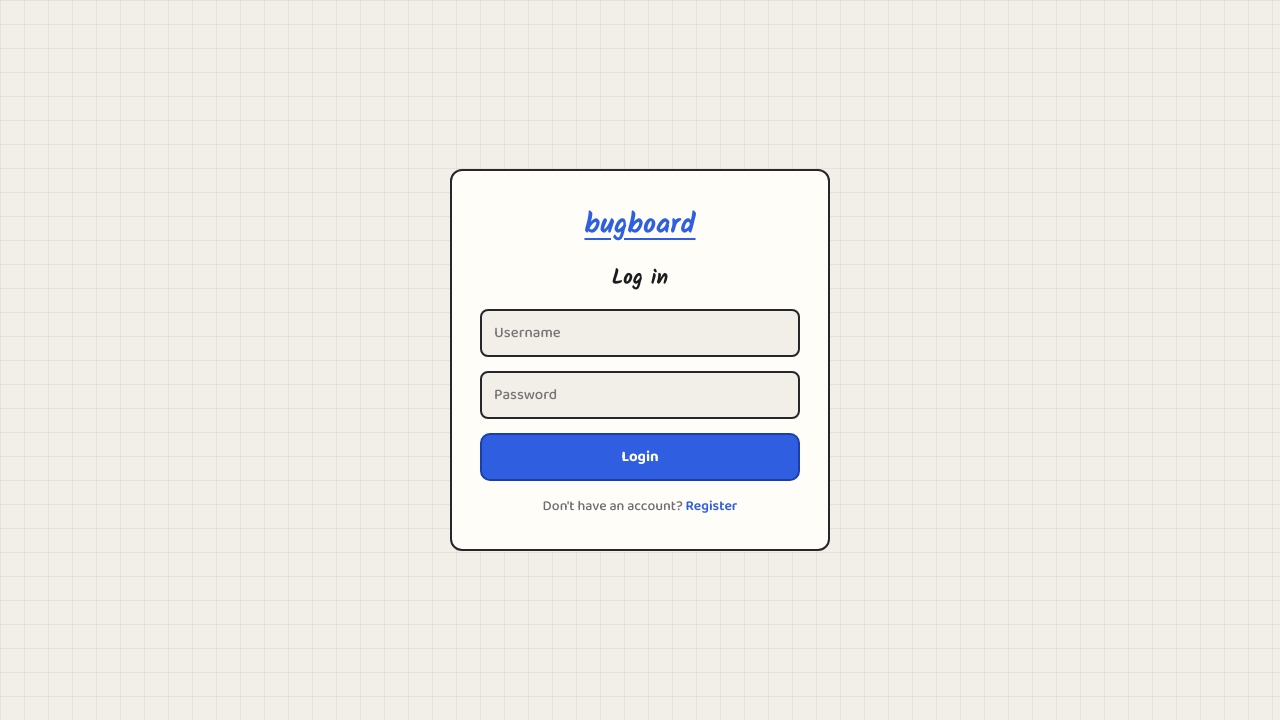
Login › shows the error message when login fails
Step 1. Type "sam" into the field with placeholder "Username" → (640, 333), box [480,309,800,357]
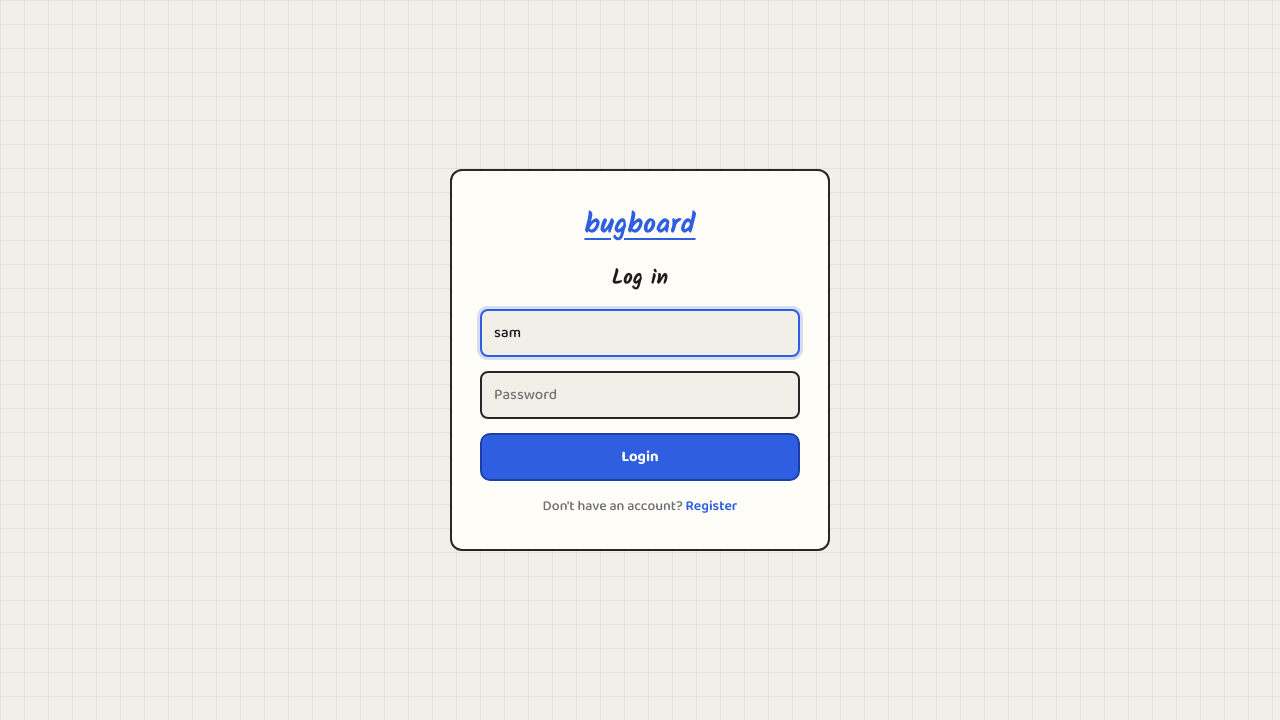
Step 2. Type "wrongpass" into the password field with placeholder "Password" → (640, 395), box [480,371,800,419]
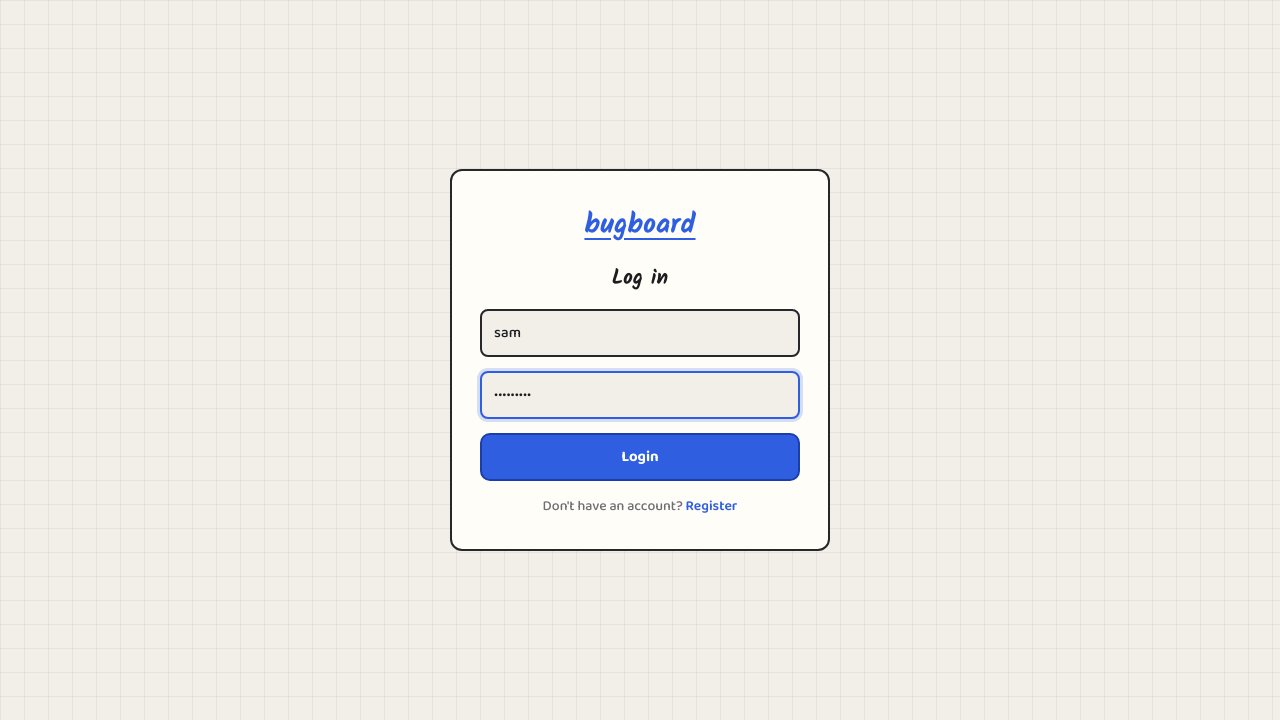
Step 3. Click the button "Login" → click(640, 457), box [480,433,800,481]
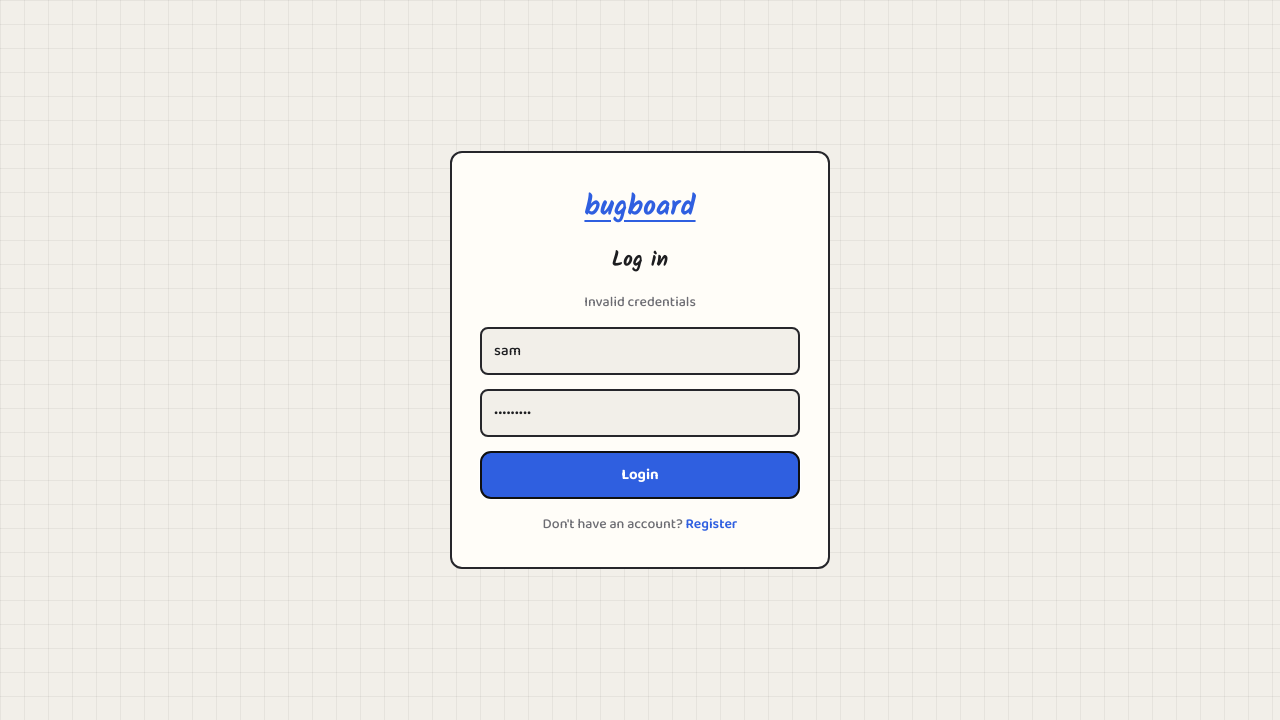
Expected: the text "Invalid credentials" is shown, [584,291,696,313]
